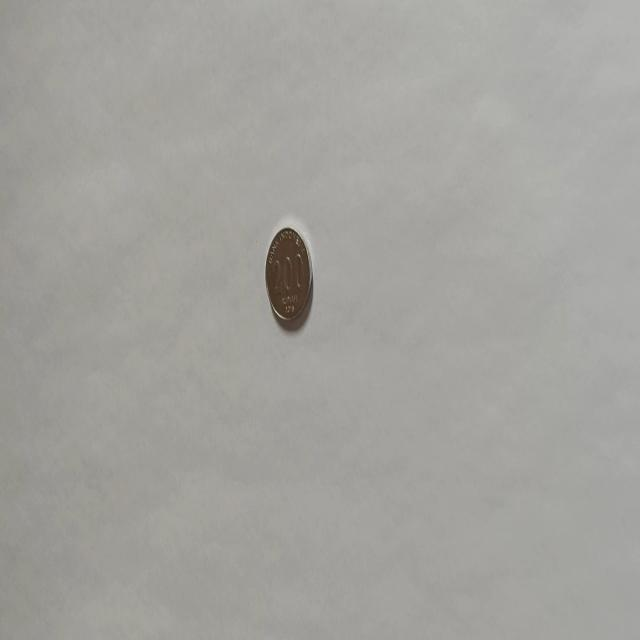dua ratus rupiah: (263, 224, 313, 326)
